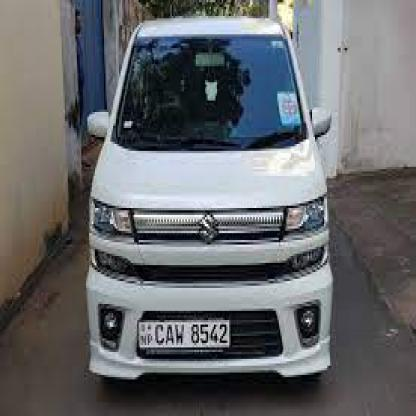car: (83, 100, 331, 388)
